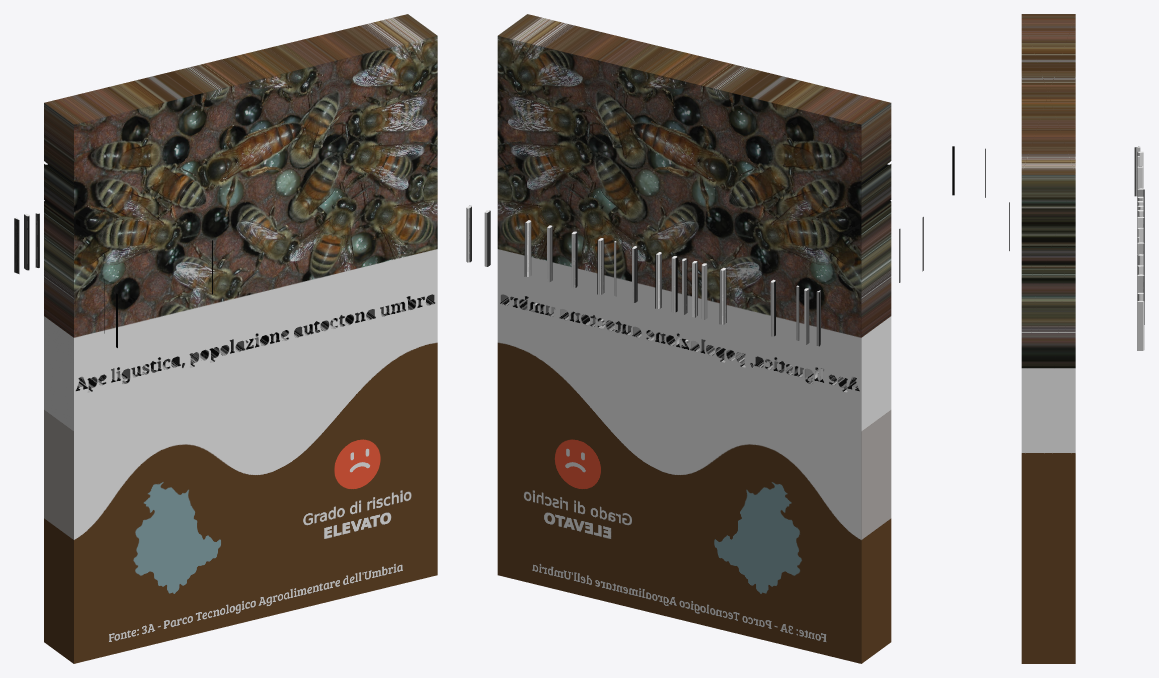
3 renders of one model, left to right at view 1: azimuth 30°, elevation 25°; view 2: azimuth 150°, elevation 25°; view 3: azimuth 270°, elevation 25°, orthographic. The views are drawn at different scales.
Size of the model in its own units: 0.1542 by 0.2184 by 0.078.
1 material, 1 textured.
